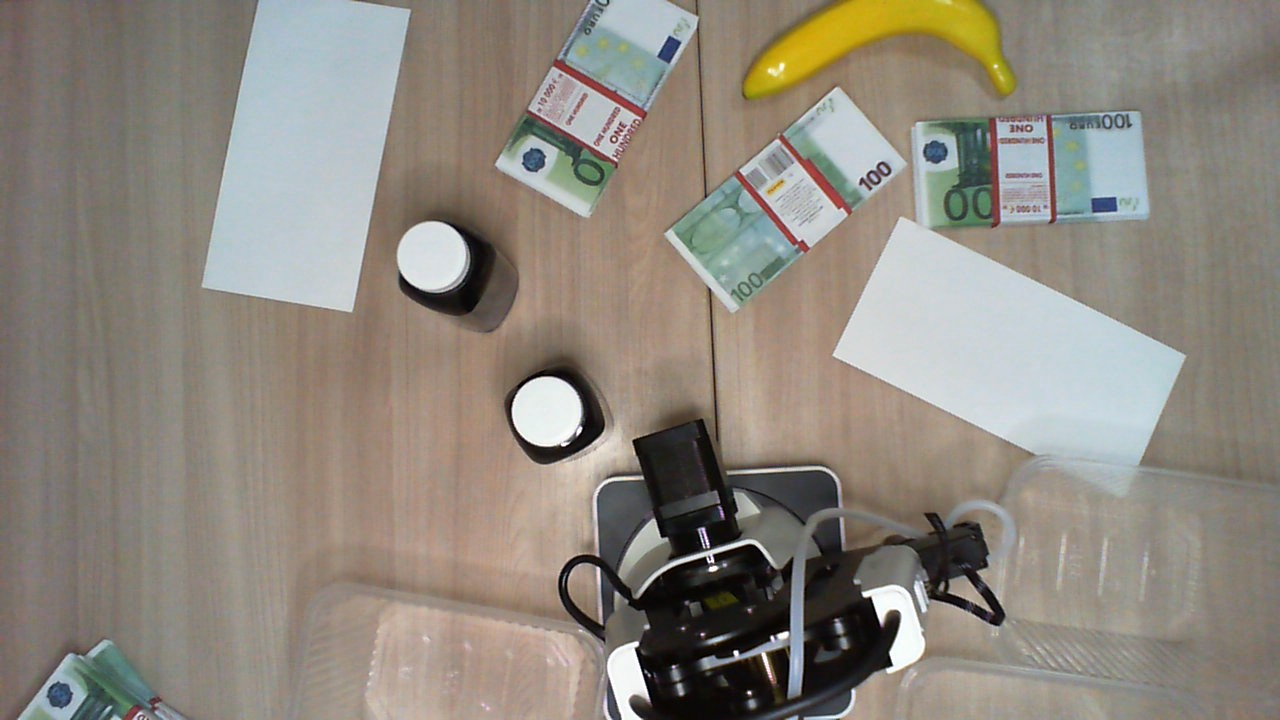banana: (734, 1, 1017, 102)
bottle: (504, 362, 611, 465), (398, 217, 499, 318)
convert: (831, 215, 1193, 490), (199, 1, 412, 314)
money: (663, 99, 899, 311), (493, 1, 698, 220), (913, 107, 1151, 227), (28, 636, 202, 720)
